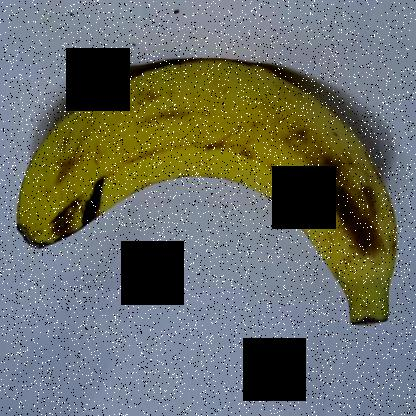ripe: (4, 51, 403, 350)
